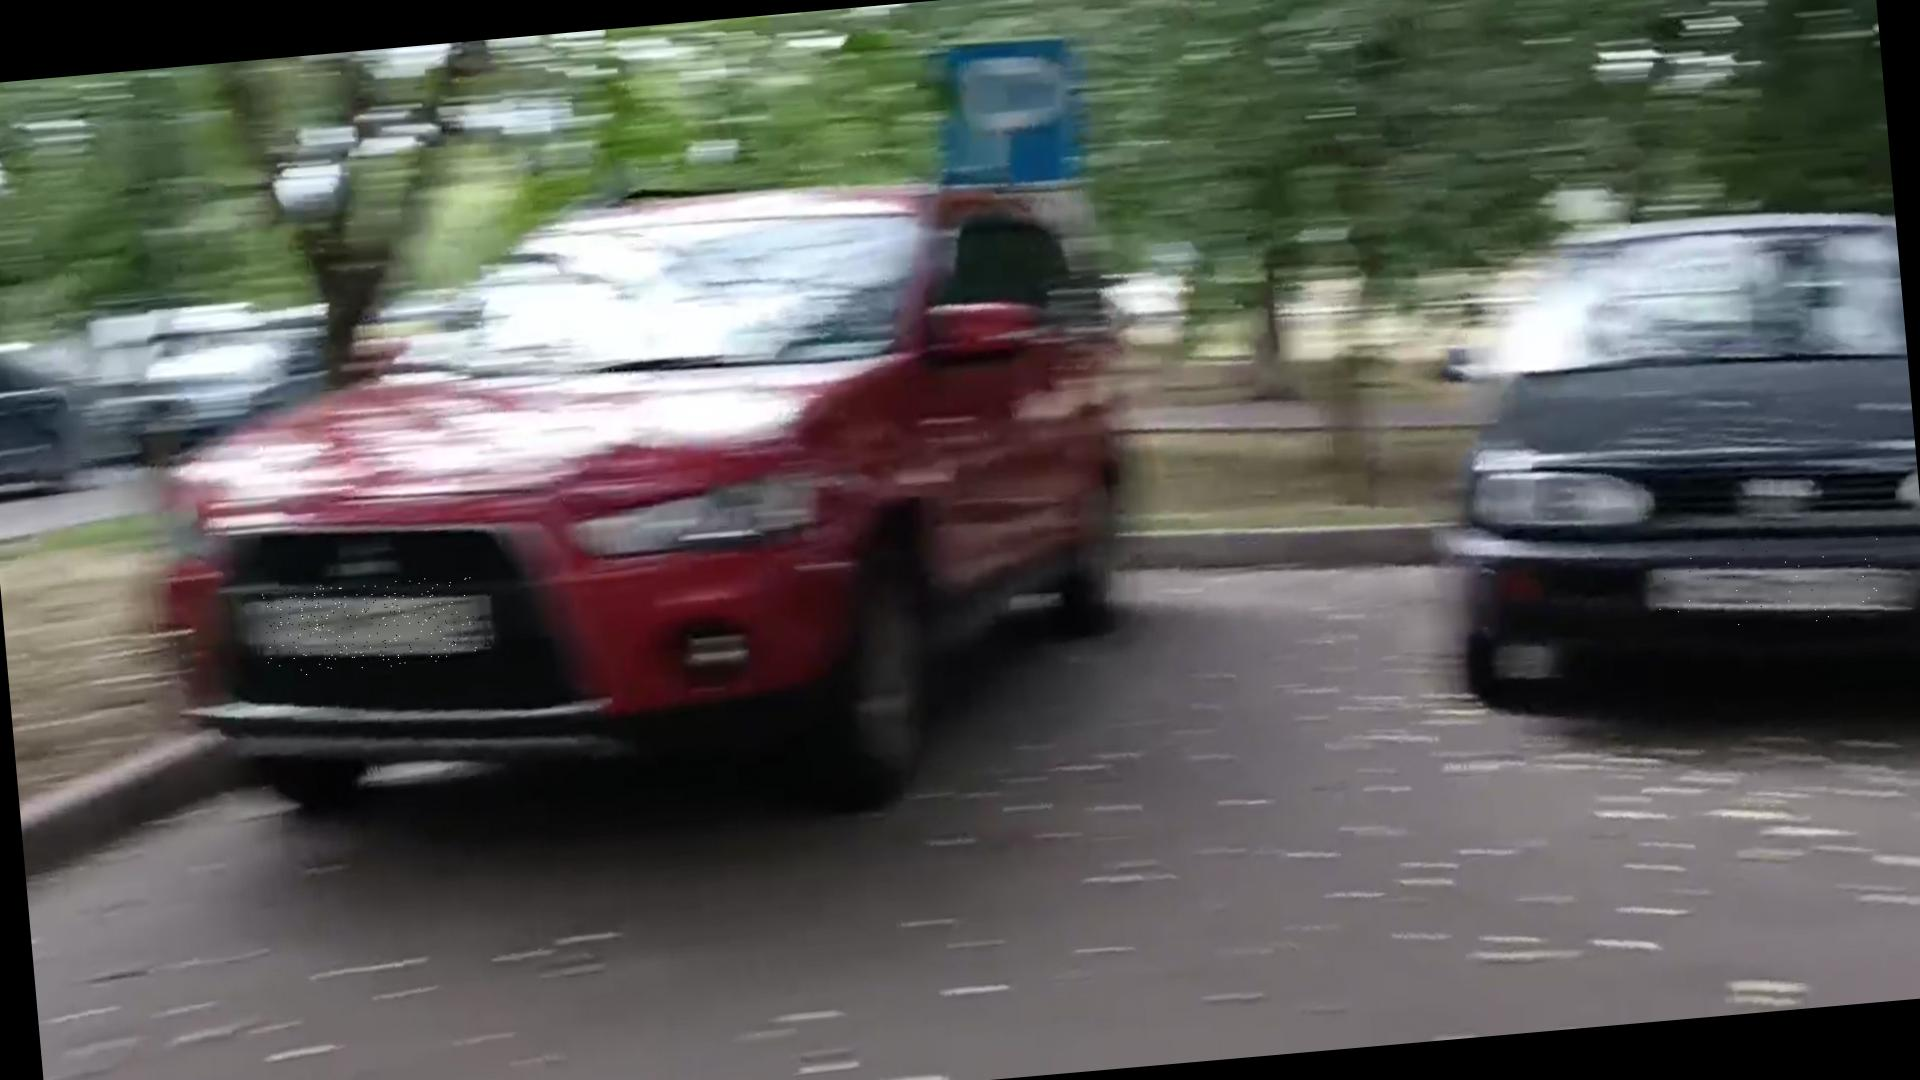plate: (1653, 537, 1887, 638), (264, 573, 480, 679)
